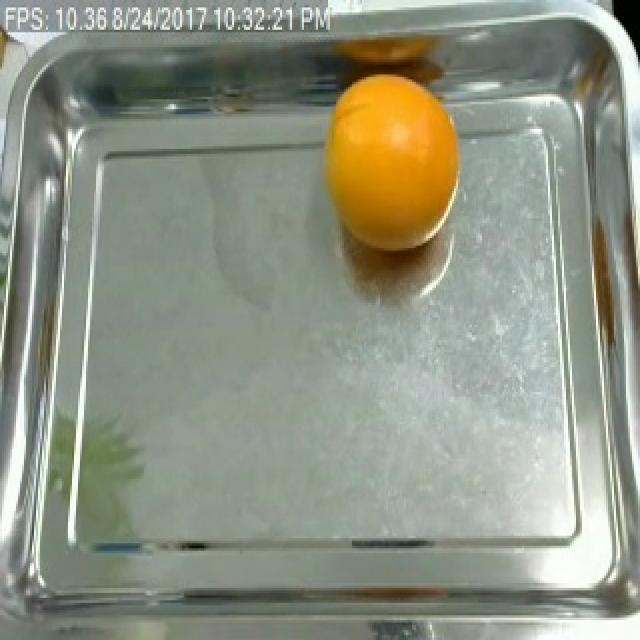Fruit: (314, 64, 468, 258), (0, 2, 18, 112)
